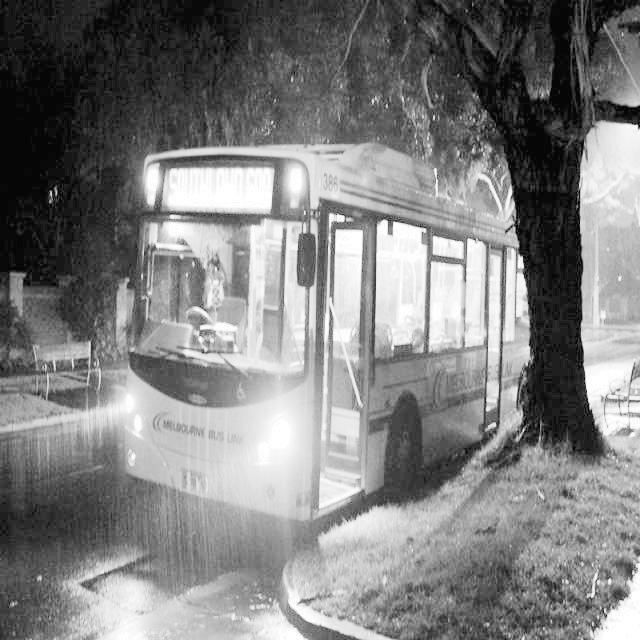Bus: (125, 143, 530, 557)
